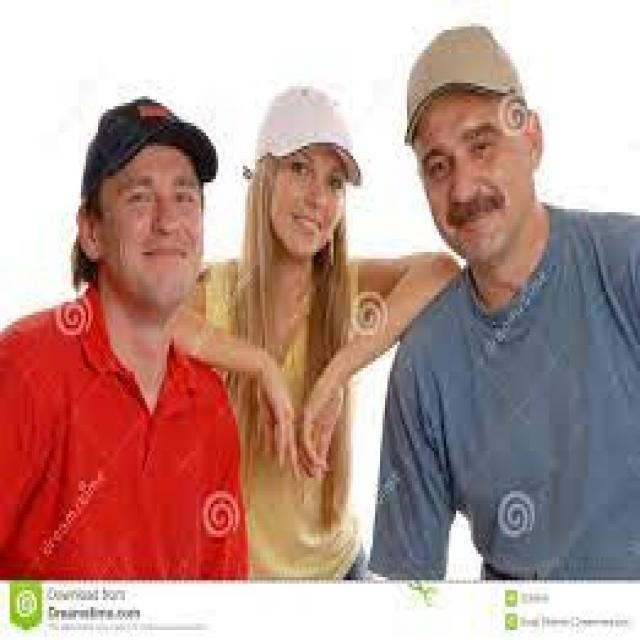hat: (63, 86, 223, 207), (389, 20, 533, 146), (249, 68, 370, 196)
